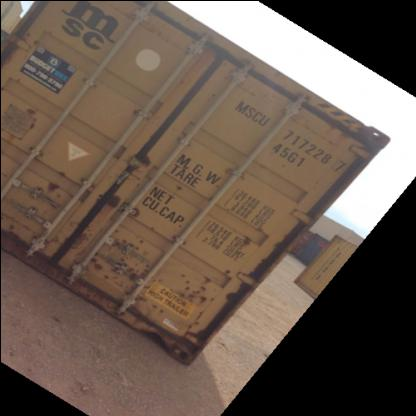Damage: (89, 232, 149, 286), (152, 268, 214, 318), (124, 160, 164, 186), (19, 100, 41, 128), (230, 230, 253, 254), (4, 209, 24, 231), (219, 157, 241, 177), (27, 24, 43, 48), (42, 174, 60, 192), (170, 178, 187, 192), (58, 163, 72, 175)
